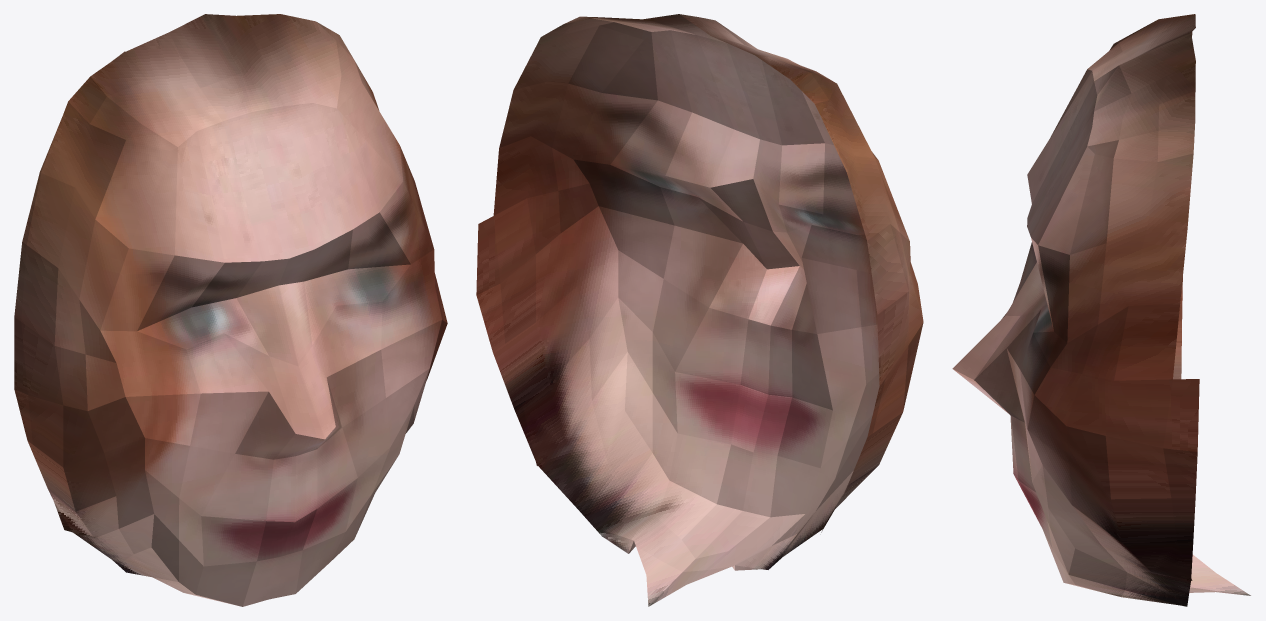
The model's file is freya 3d model.glb.
The picture shows the model from 3 angles, left to right: view 1: azimuth 30°, elevation 25°; view 2: azimuth 150°, elevation 25°; view 3: azimuth 270°, elevation 25°; orthographic projection.
Visible parts, largest first — view 1: Roundcube; view 2: Roundcube; view 3: Roundcube.
Part boxes in pixels (box(x1,y1,x2,y2)): Roundcube: box(14, 14, 447, 606); Roundcube: box(476, 14, 923, 606); Roundcube: box(952, 14, 1250, 606).
Size of the model in its own units: 0.9829 by 1.35 by 0.6516.
Materials: 1 (1 with a texture image).
